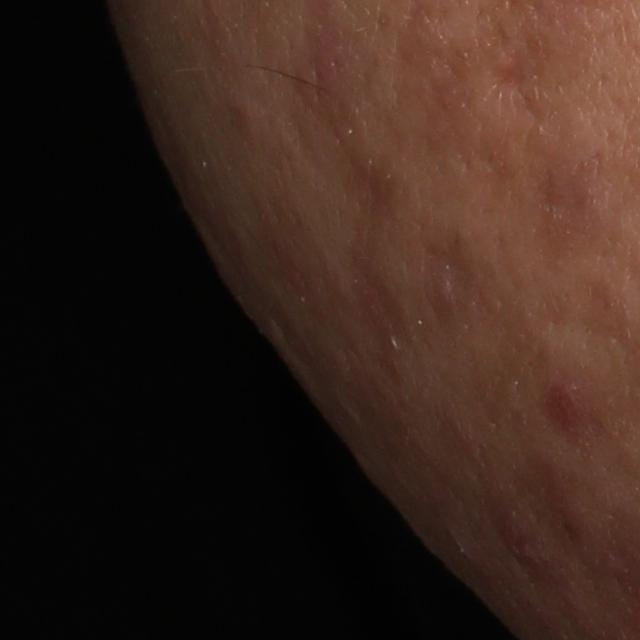atrophic_scar: (492, 49, 526, 93)
papule: (283, 36, 354, 105), (490, 497, 549, 567), (543, 380, 598, 434), (553, 491, 598, 547)
